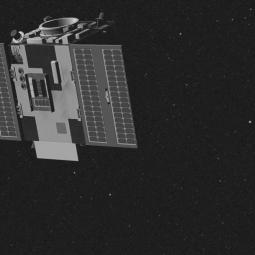proba_2: (0, 22, 146, 160)
